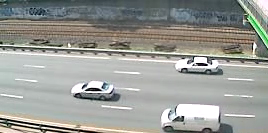car: (157, 101, 223, 133), (69, 79, 119, 102), (174, 55, 222, 75)
